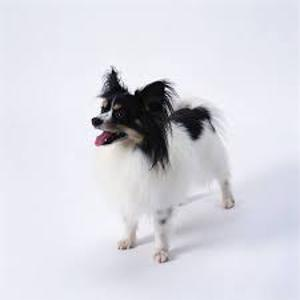yell: (90, 67, 235, 263)
